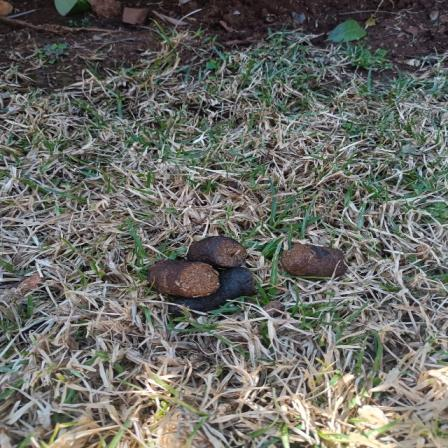dog-poop: (154, 230, 256, 315), (280, 239, 351, 276)
